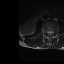CCS_normal: (49, 29, 51, 36)
LFS_normal: (53, 29, 55, 34)
LLS_normal: (51, 29, 53, 35)
RFS_normal: (45, 29, 47, 34)
RLS_normal: (47, 29, 49, 35)
